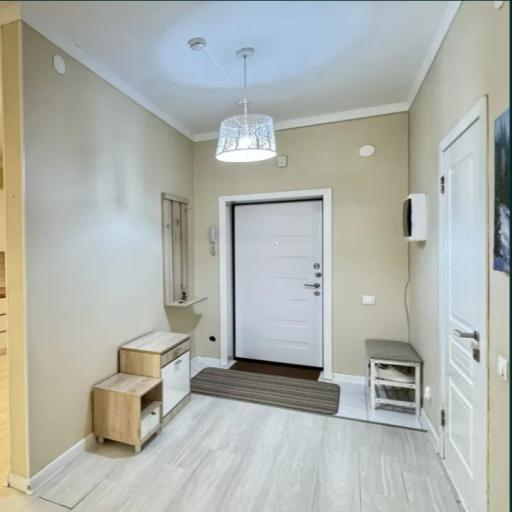corridor: (439, 99, 487, 511), (234, 201, 323, 367)
curb: (1, 5, 512, 512)
